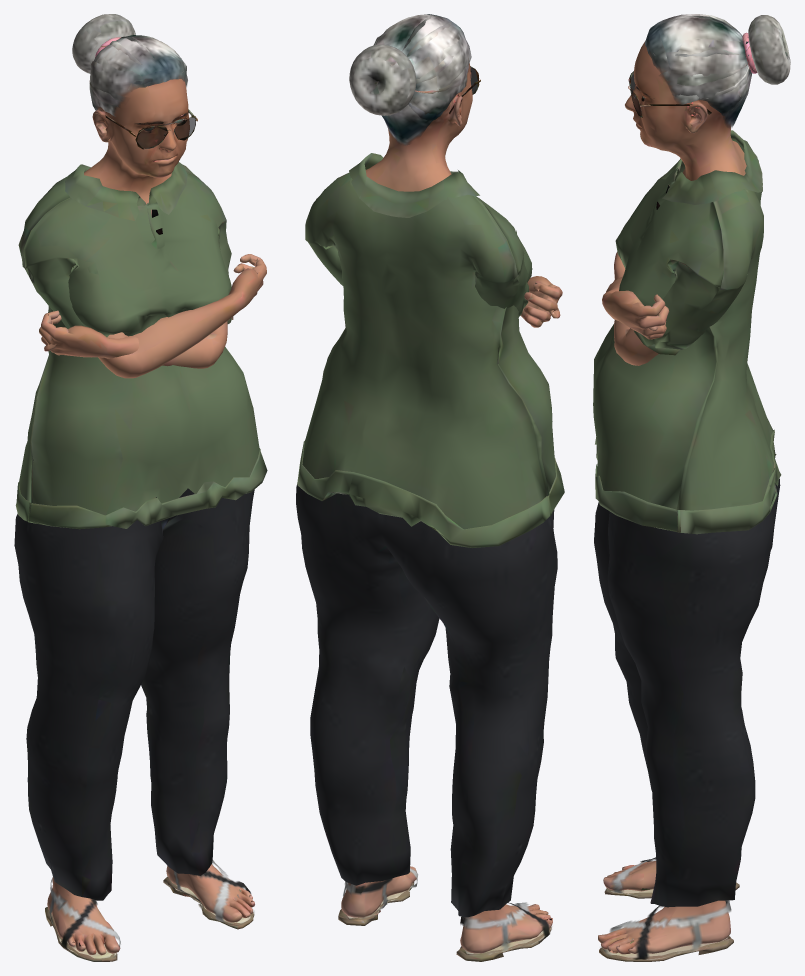
3 renders of one model, left to right at view 1: azimuth 30°, elevation 25°; view 2: azimuth 150°, elevation 25°; view 3: azimuth 270°, elevation 25°, orthographic. The views are drawn at different scales.
Visible parts, largest first — view 1: p02381; view 2: p02381; view 3: p02381.
Boxes of the visible parts, left/top/right/bottom form: p02381: left=14, top=14, right=267, bottom=961; p02381: left=296, top=14, right=564, bottom=961; p02381: left=593, top=14, right=790, bottom=961.
Size of the model in its own units: 0.4506 by 1.64 by 0.3234.
1 material, 1 textured.
